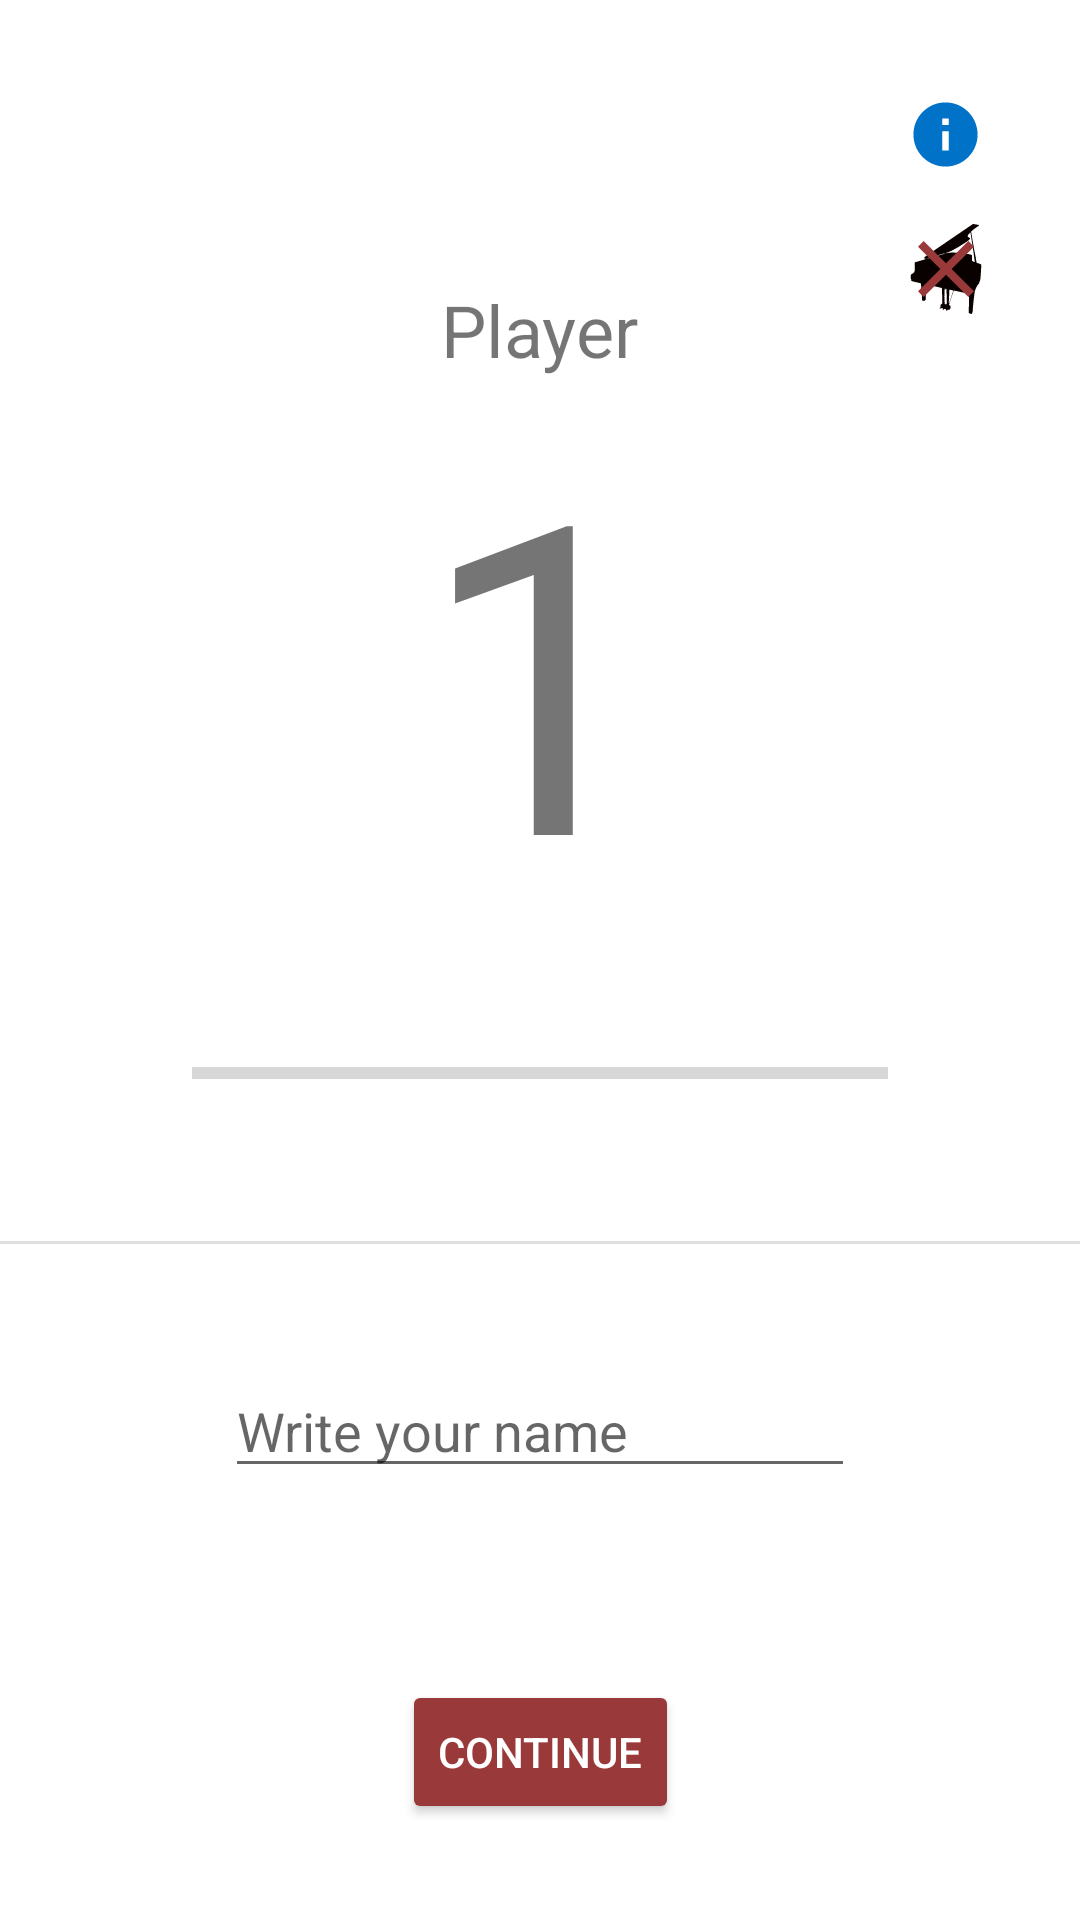

Named icons in this screenshot (1080×1920) and their bounding boxes, (x1, y1, x2, y2):
info: (913, 102, 978, 167)
